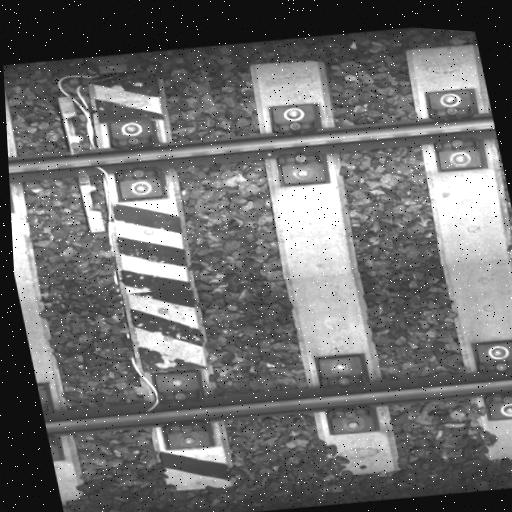clips: (421, 83, 487, 174), (264, 97, 329, 189), (101, 116, 168, 204), (148, 365, 213, 452), (314, 350, 374, 436), (471, 335, 512, 423), (35, 377, 65, 459)
sleepers: (233, 50, 415, 485), (75, 63, 253, 497), (389, 35, 512, 468), (5, 87, 84, 502)
